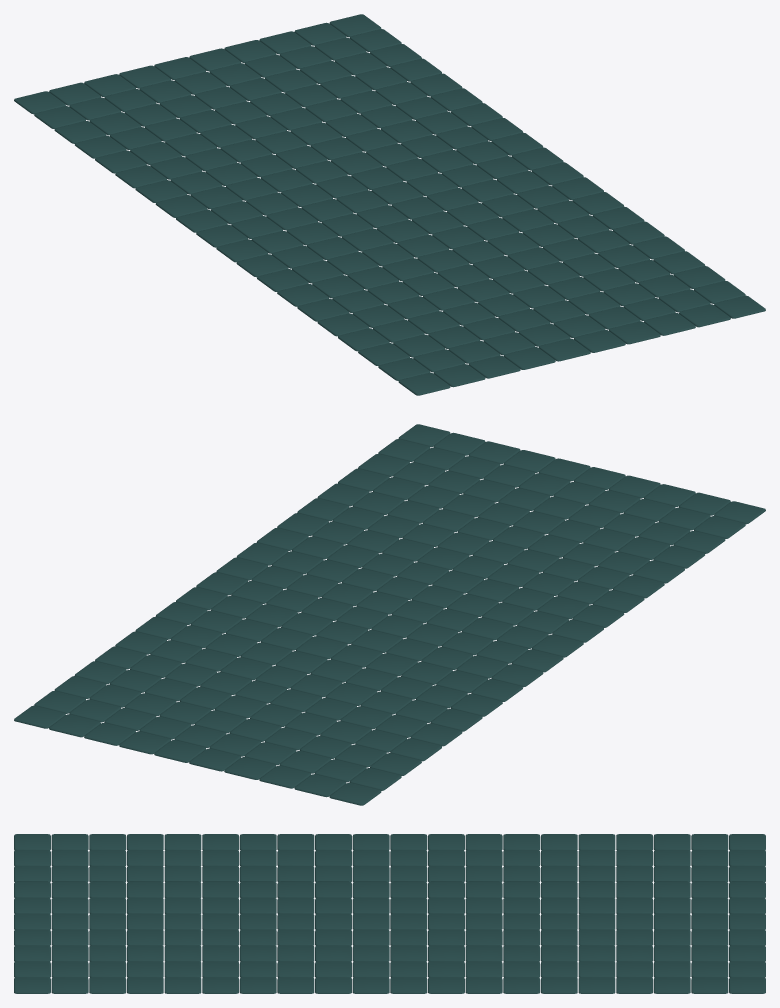
3 renders of one model, top to bottom at view 1: azimuth 30°, elevation 25°; view 2: azimuth 150°, elevation 25°; view 3: azimuth 270°, elevation 25°, orthographic. The views are drawn at different scales.
Parts seen in each view (by area): view 1: celll_grid_background; view 2: celll_grid_background; view 3: celll_grid_background.
Boxes of the visible parts, x1,y1,x2,y2 form: celll_grid_background: (14, 14, 765, 395); celll_grid_background: (14, 424, 765, 805); celll_grid_background: (14, 834, 765, 993).
Bounding box in the file's own units: 2.99 × 0.0118 × 5.99.
1 material, 1 textured.
